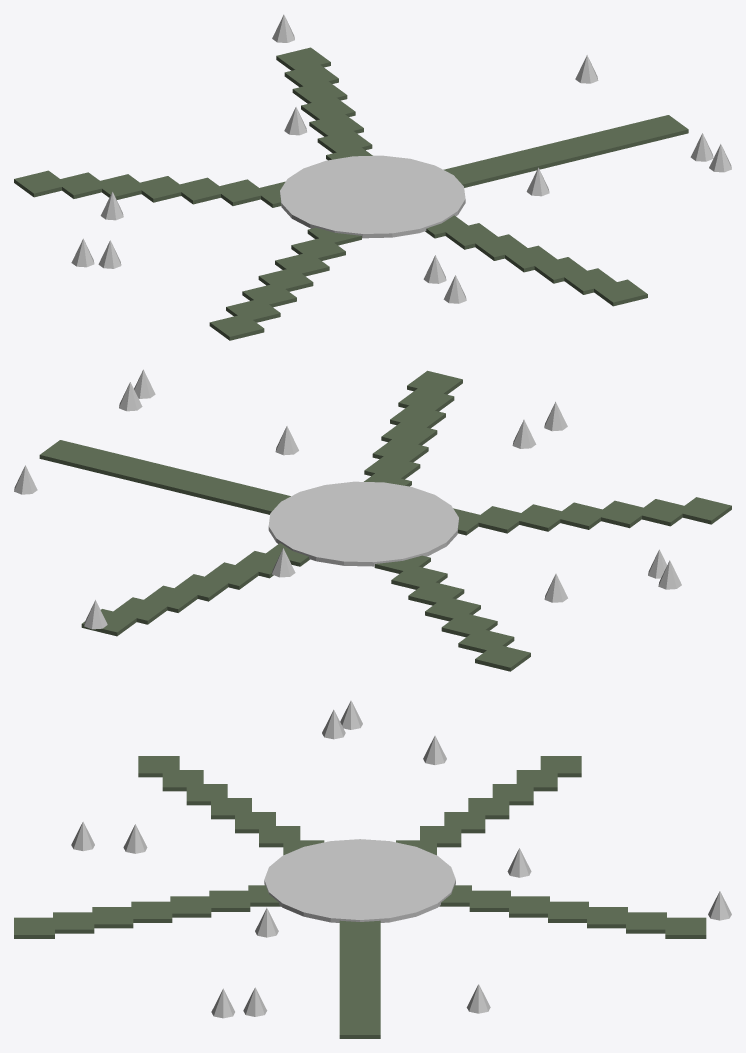
Rendered from layout_main.obj.
The picture shows the model from 3 angles, top to bottom: view 1: azimuth 30°, elevation 25°; view 2: azimuth 150°, elevation 25°; view 3: azimuth 270°, elevation 25°; orthographic projection. The views are drawn at different scales.
Parts seen in each view (by area): view 1: paths, plaza, scatter; view 2: paths, plaza, scatter; view 3: paths, plaza, scatter.
Boxes of the visible parts, x1,y1,x2,y2 form: paths: (14, 47, 688, 340); plaza: (280, 155, 465, 238); scatter: (71, 14, 731, 303); paths: (39, 370, 731, 671); plaza: (268, 481, 458, 566); scatter: (14, 369, 681, 629); paths: (14, 756, 706, 1038); plaza: (264, 839, 455, 922); scatter: (71, 700, 731, 1018).
Bounding box in the file's own units: 52.76 × 3.08 × 52.44.
